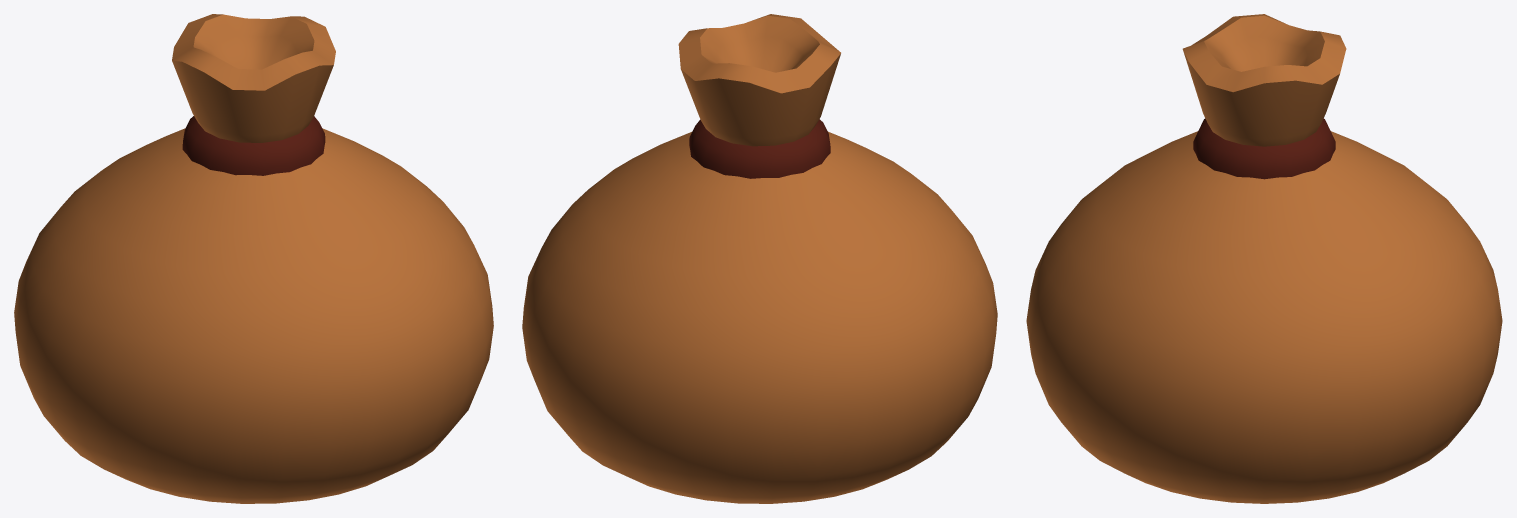
Rendered from lootSackB.obj.
3 views of the same model, side by side, from view 1: azimuth 30°, elevation 25°; view 2: azimuth 150°, elevation 25°; view 3: azimuth 270°, elevation 25° (orthographic).
Parts seen in each view (by area): view 1: lootSackB_Sphere.006; view 2: lootSackB_Sphere.006; view 3: lootSackB_Sphere.006.
Part boxes in pixels (<box>): lootSackB_Sphere.006: <box>14,14,493,503</box>; lootSackB_Sphere.006: <box>522,14,997,503</box>; lootSackB_Sphere.006: <box>1026,14,1502,503</box>.
Bounding box in the file's own units: 1 × 0.933 × 1.
